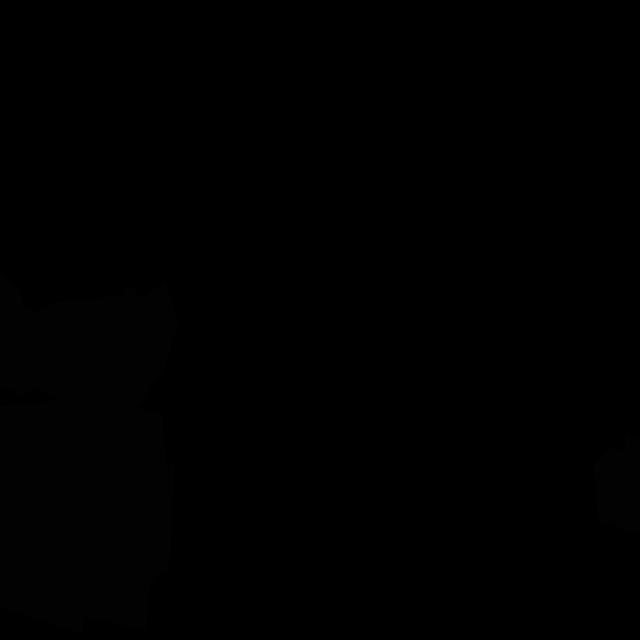cardboard: (0, 399, 174, 633), (0, 274, 178, 407), (593, 433, 640, 531)
